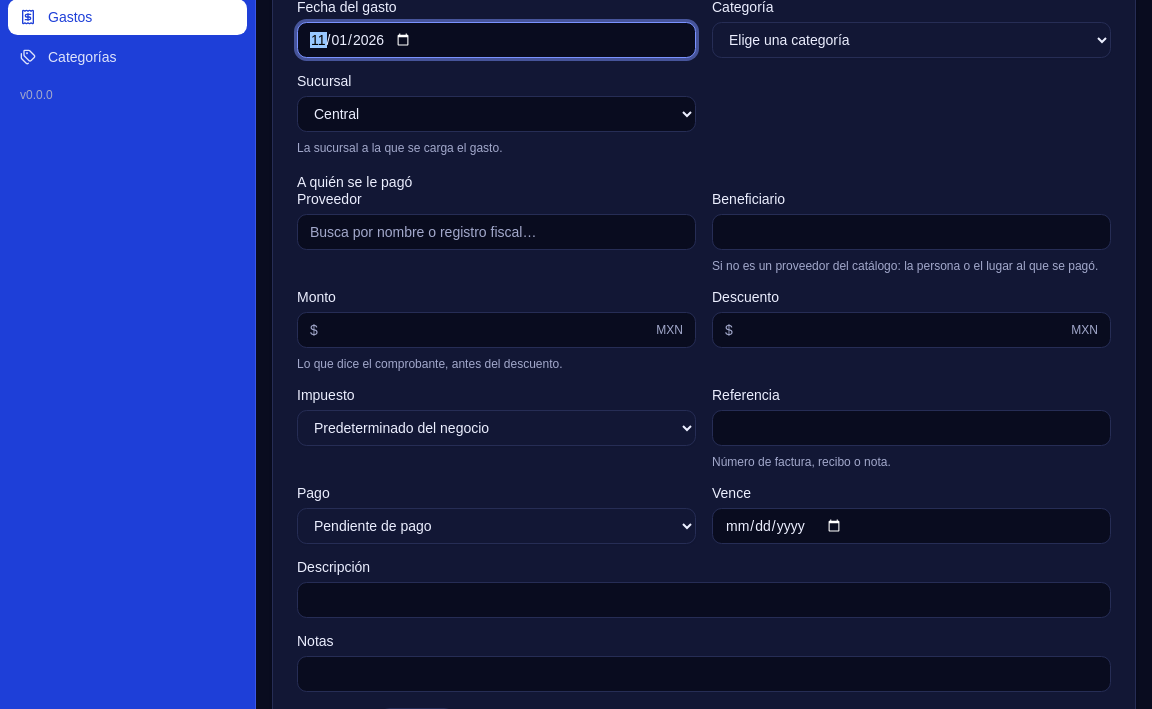
it: Gastos — formulario (F9-EXP-14) › un beneficiario deshabilita el picker de proveedor
(page scrolled)
Type "Don Pepe" into the field labelled "Beneficiario" at [912, 232], box [712,214,1111,250]
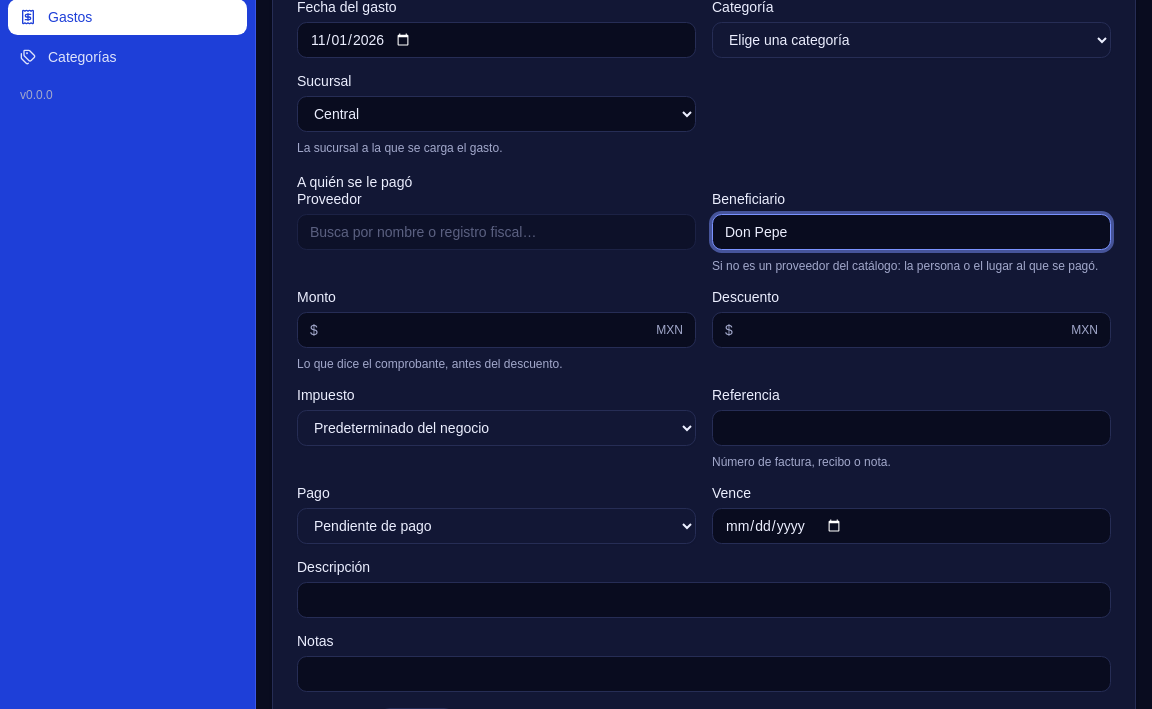
Result: the search field labelled "Proveedor" is disabled at [297,214,696,250]
